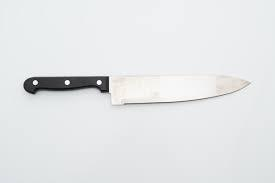Knife: (23, 72, 251, 105)
